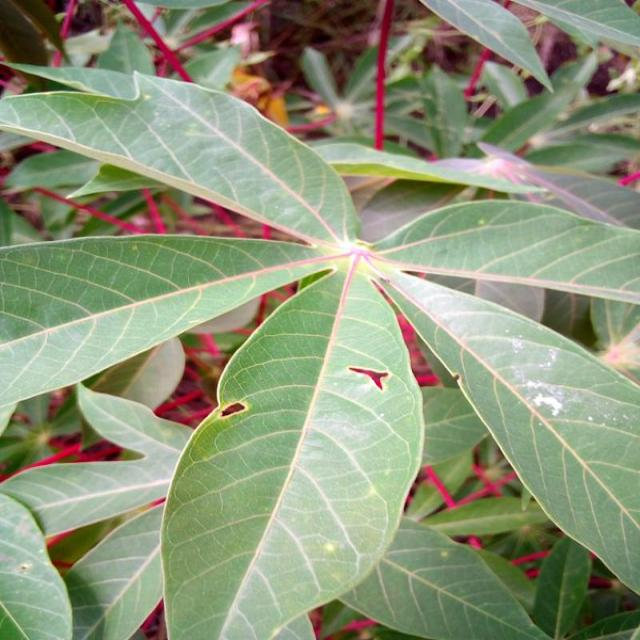cassava leaf: (1, 58, 638, 636), (158, 260, 425, 638), (377, 264, 639, 598), (0, 60, 362, 248)
